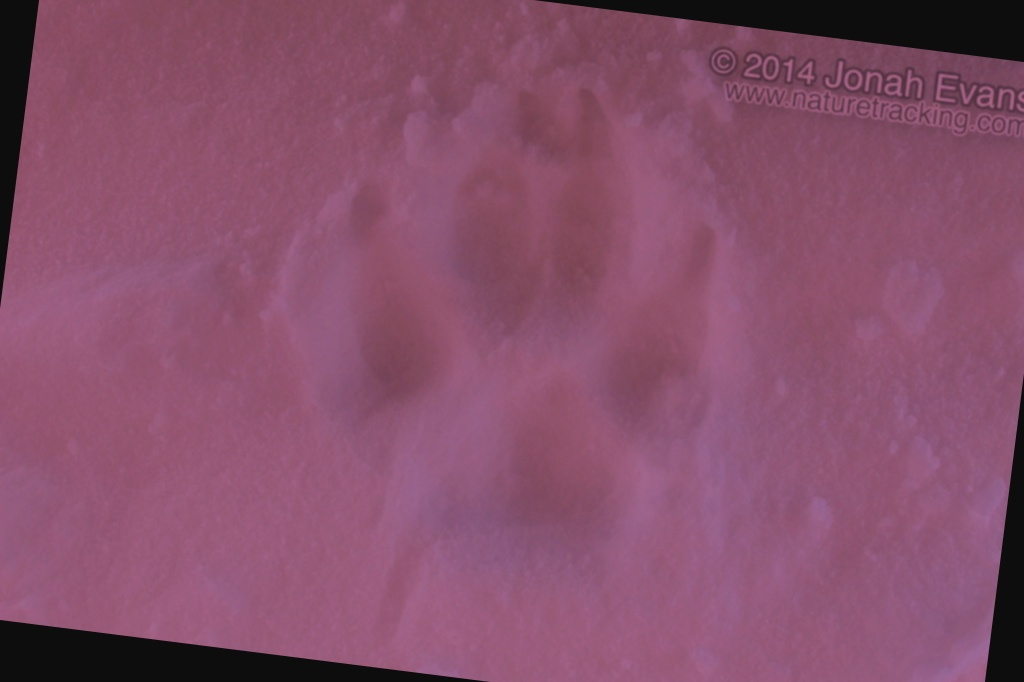loup: (217, 34, 823, 679)
